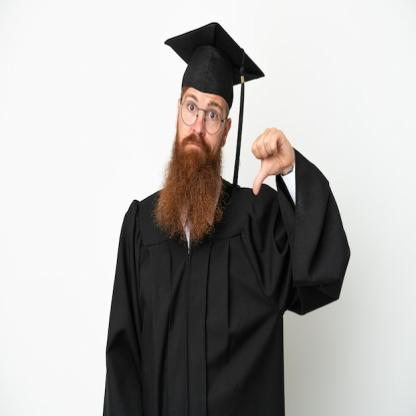thumb_down: (249, 124, 294, 196)
